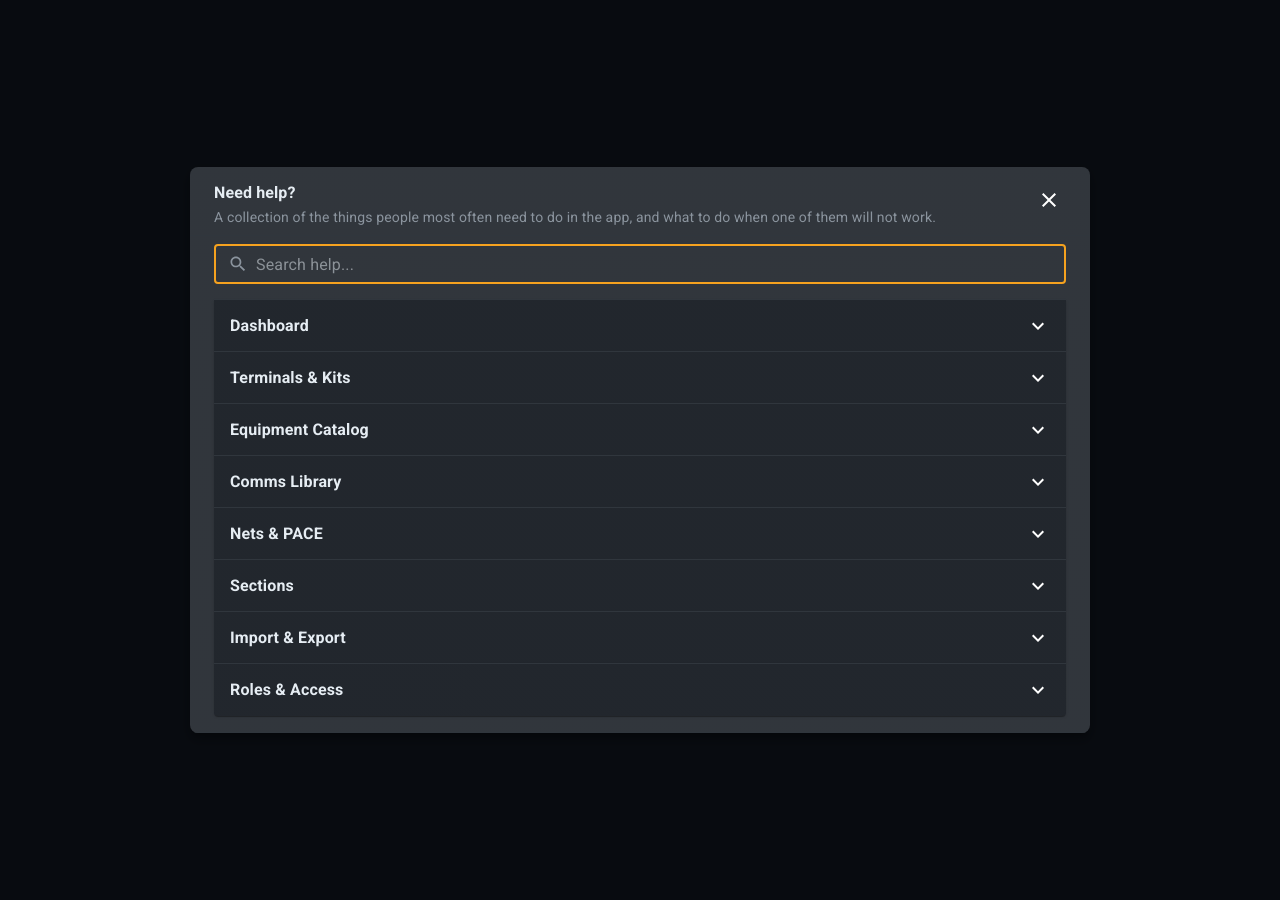
HelpDialog › draws a step that names an icon-only control as that icon
Step 1. Click the button "Import & Export" → (288, 638), box [214, 612, 1066, 664]
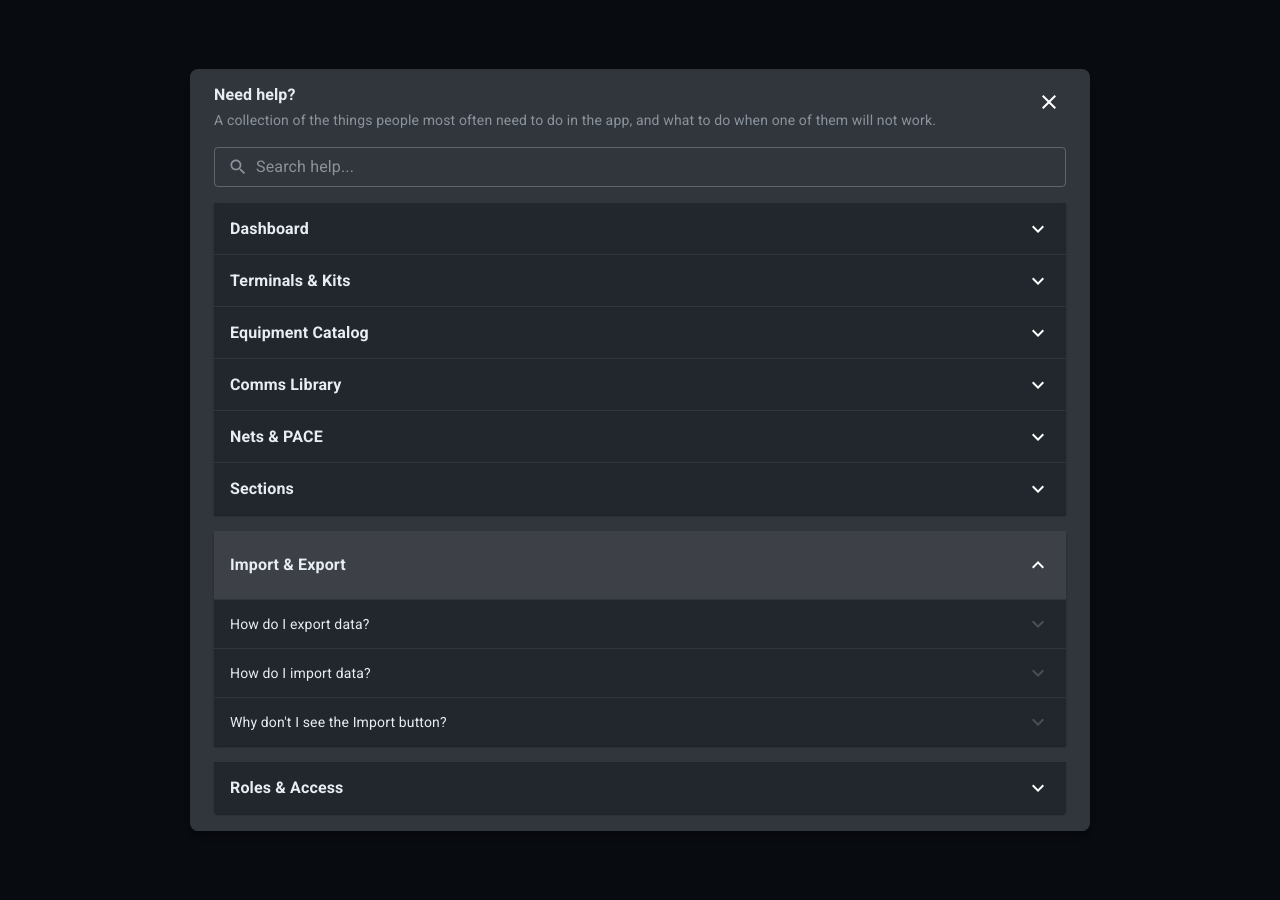
Step 2. Click the button "How do I export data?" → (300, 624), box [214, 600, 1066, 648]
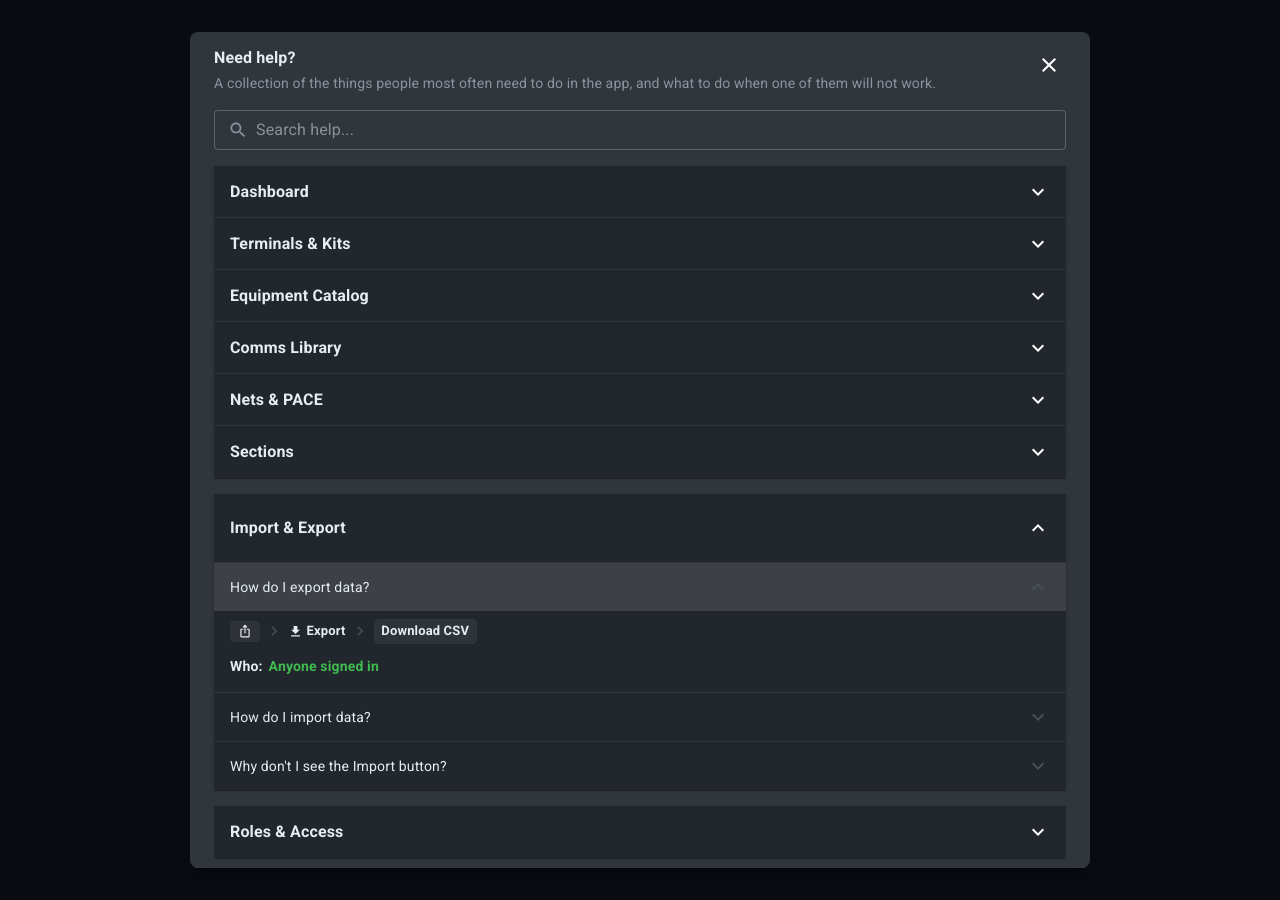
Now the element named "Import and export" is shown, box [230, 621, 260, 642]
Now the text "Download CSV" is shown, box [374, 619, 477, 644]
